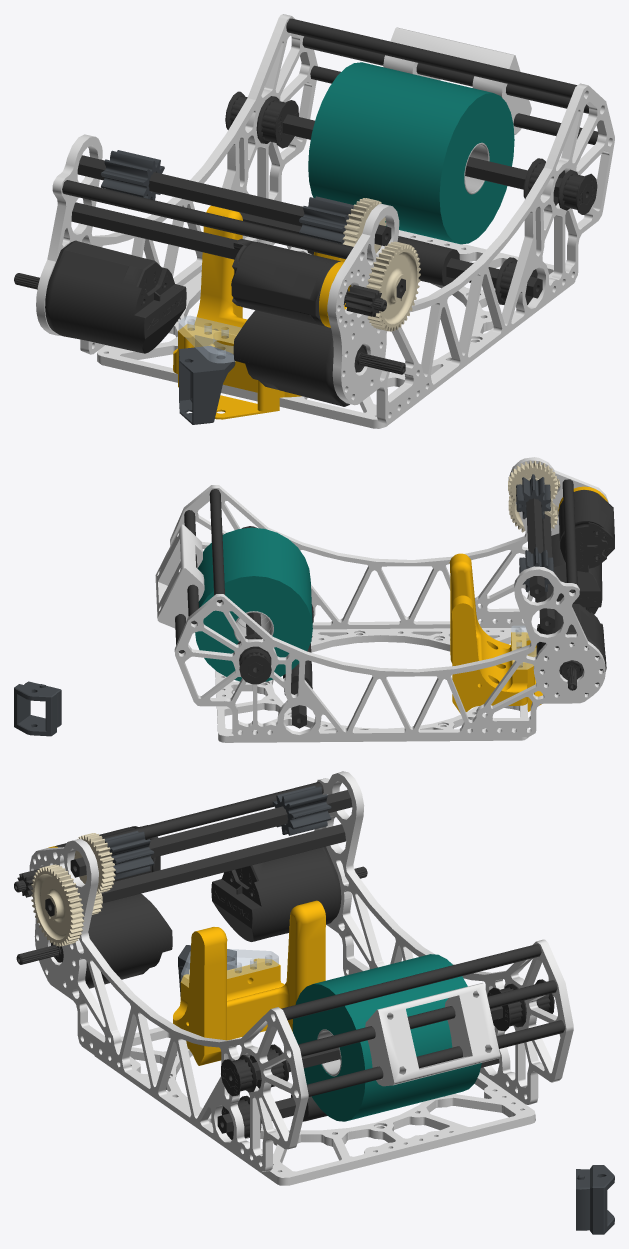
Rendered from 341-turret.glb.
3 views of the same model, one above another, from view 1: azimuth 30°, elevation 25°; view 2: azimuth 150°, elevation 25°; view 3: azimuth 270°, elevation 25° (orthographic). The views are drawn at different scales.
Parts seen in each view (by area): view 1: 0.196" ID x 0.375" OD Aluminum Round Tube (8.5" L), Shooter Mount Plate, 2477K37_Abrasion-Resistant Roller 4" Round Urethane, Slug, Cave attachment, 44t Pocketed Aluminum Spur Gear (20 DP, 1/2" Hex Bore), Polycarb Mount, 2477K37_wheel hub; view 2: Shooter Mount Plate, 0.196" ID x 0.375" OD Aluminum Round Tube (8.5" L), 2477K37_Abrasion-Resistant Roller 4" Round Urethane, Slug, Cave attachment, 44t Pocketed Aluminum Spur Gear (20 DP, 1/2" Hex Bore), Polycarb Mount; view 3: Shooter Mount Plate, 0.196" ID x 0.375" OD Aluminum Round Tube (8.5" L), 2477K37_Abrasion-Resistant Roller 4" Round Urethane, Slug, Cave attachment, 44t Pocketed Aluminum Spur Gear (20 DP, 1/2" Hex Bore), Polycarb Mount.
Part boxes in pixels (x1,y1,x2,y2): 0.196" ID x 0.375" OD Aluminum Round Tube (8.5" L): (14,18,598,406); Shooter Mount Plate: (36,14,614,428); 2477K37_Abrasion-Resistant Roller 4" Round Urethane: (308,62,514,244); Slug: (173,205,351,419); Cave attachment: (101,150,353,424); 44t Pocketed Aluminum Spur Gear (20 DP, 1/2" Hex Bore): (342,198,420,331); Polycarb Mount: (178,315,241,363); 2477K37_wheel hub: (464,142,489,194); Shooter Mount Plate: (155,457,608,742); 0.196" ID x 0.375" OD Aluminum Round Tube (8.5" L): (175,479,614,728); 2477K37_Abrasion-Resistant Roller 4" Round Urethane: (195,527,312,681); Slug: (449,486,607,713); Cave attachment: (14,474,553,736); 44t Pocketed Aluminum Spur Gear (20 DP, 1/2" Hex Bore): (508,460,560,532); Polycarb Mount: (511,625,536,669); Shooter Mount Plate: (29,771,573,1185); 0.196" ID x 0.375" OD Aluminum Round Tube (8.5" L): (14,782,565,1139); 2477K37_Abrasion-Resistant Roller 4" Round Urethane: (292,954,481,1121); Slug: (48,846,325,1065); Cave attachment: (105,785,614,1234); 44t Pocketed Aluminum Spur Gear (20 DP, 1/2" Hex Bore): (31,833,115,946); Polycarb Mount: (181,949,278,987).
Size of the model in its own units: 0.4651 by 0.1741 by 0.4316.
